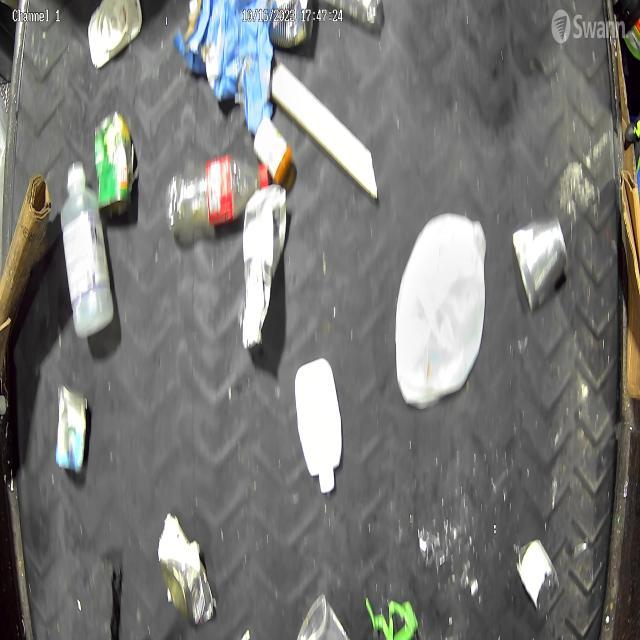can: (156, 510, 214, 624), (512, 216, 568, 318)
milk_jug: (398, 214, 488, 408)
plastic_bottle: (168, 157, 270, 226)
